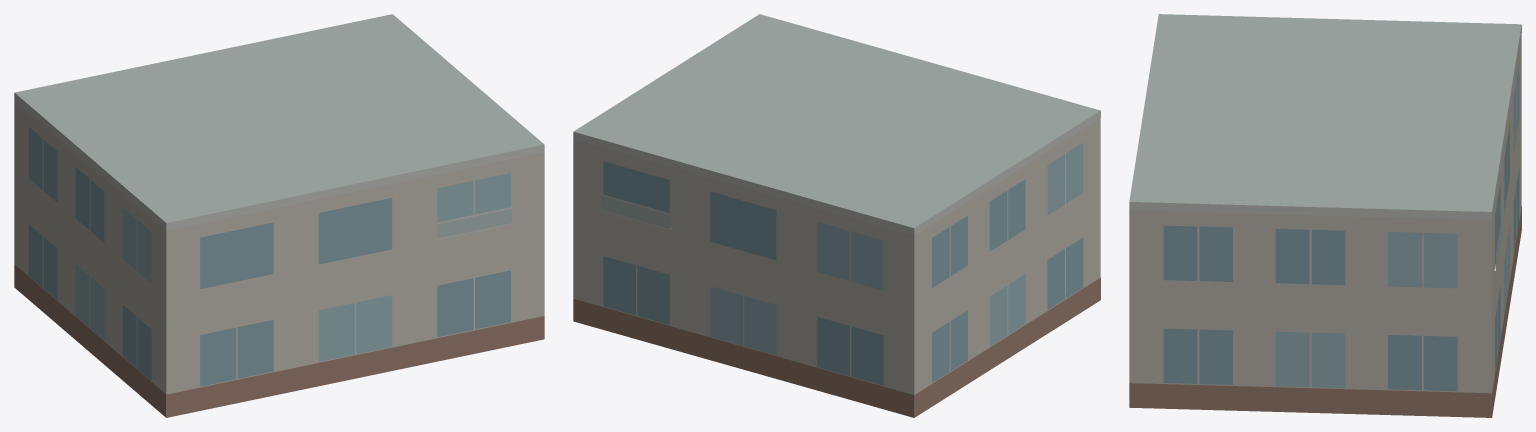
Rendered from survey-upis-32858107.glb.
3 renders of one model, left to right at view 1: azimuth 30°, elevation 25°; view 2: azimuth 150°, elevation 25°; view 3: azimuth 270°, elevation 25°, orthographic. The views are drawn at different scales.
Parts seen in each view (by area): view 1: survey-upis-32858107.tmp; view 2: survey-upis-32858107.tmp; view 3: survey-upis-32858107.tmp.
Boxes of the visible parts, x1,y1,x2,y2 form: survey-upis-32858107.tmp: (14,14,544,417); survey-upis-32858107.tmp: (573,14,1100,417); survey-upis-32858107.tmp: (1129,14,1521,417).
Size of the model in its own units: 12.59 by 6.1 by 10.55.
